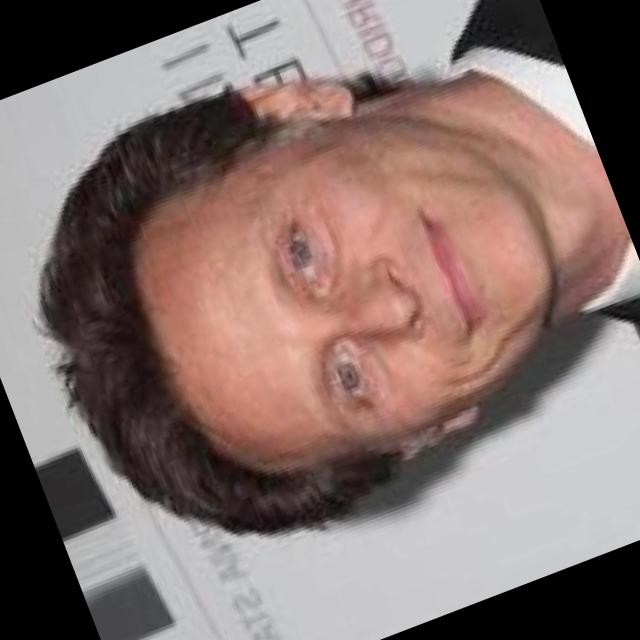bareface: (6, 29, 596, 536)
